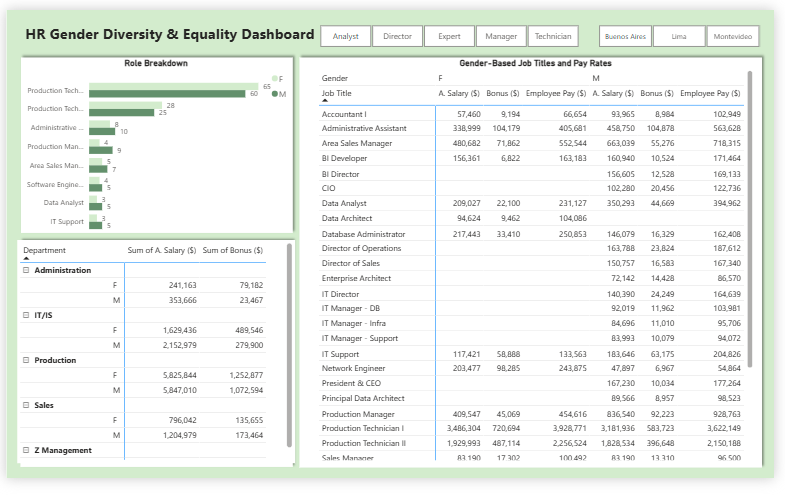

The dashboard page shown, as its layout file describes it:
{"tool":"powerbi","page":{"name":"Duplicate of Page 1","canvas":[1280,780],"ordinal":1},"visuals":[{"type":"pivotTable","title":"Gender-Based Job Titles and Pay Rates","fields":{"Rows":["HR_Gender Diversity & Equality.Job Title"],"Values":["Sum(HR_Gender Diversity & Equality.Annual Salary ($))","Sum(HR_Gender Diversity & Equality.Bonus ($))","Sum(HR_Gender Diversity & Equality.Total Compensation)"],"Columns":["HR_Gender Diversity & Equality.Gender"]},"box":[517.4,78.3,732.6,676.1],"z":0},{"type":"slicer","fields":{"Values":["HR_Gender Diversity & Equality.Branch"]},"box":[963.1,19.7,316.9,49.3],"z":1000},{"type":"slicer","fields":{"Values":["HR_Gender Diversity & Equality.Job Description"]},"box":[498.6,19.7,480.3,49.3],"z":2000},{"type":"clusteredBarChart","title":"Role Breakdown","fields":{"Category":["HR_Gender Diversity & Equality.Job Title"],"Y":["CountNonNull(HR_Gender Diversity & Equality.Employee ID)"],"Series":["HR_Gender Diversity & Equality.Gender"]},"box":[19.6,78.3,463,304.3],"z":3000},{"type":"pivotTable","fields":{"Rows":["HR_Gender Diversity & Equality.Department","HR_Gender Diversity & Equality.Gender"],"Values":["Sum(HR_Gender Diversity & Equality.Annual Salary ($))","Sum(HR_Gender Diversity & Equality.Bonus ($))"]},"box":[19.6,382.6,463,371.7],"z":4000},{"type":"textbox","box":[27.1,18.8,512.5,50],"z":4001}]}

Visuals, with their boxes on the page's 1280x780 design canvas (x1, y1, x2, y2). These are canvas units, not pixel positions in the 785x495 screenshot, which may show the page scaled, cropped or inside an application window:
"Gender-Based Job Titles and Pay Rates" pivotTable: crop(517, 78, 1250, 754)
slicer - HR_Gender Diversity & Equality.Branch: crop(963, 20, 1280, 69)
slicer - HR_Gender Diversity & Equality.Job Description: crop(499, 20, 979, 69)
"Role Breakdown" clusteredBarChart: crop(20, 78, 483, 383)
pivotTable - HR_Gender Diversity & Equality.Department x HR_Gender Diversity & Equality.Gender: crop(20, 383, 483, 754)
textbox: crop(27, 19, 540, 69)
